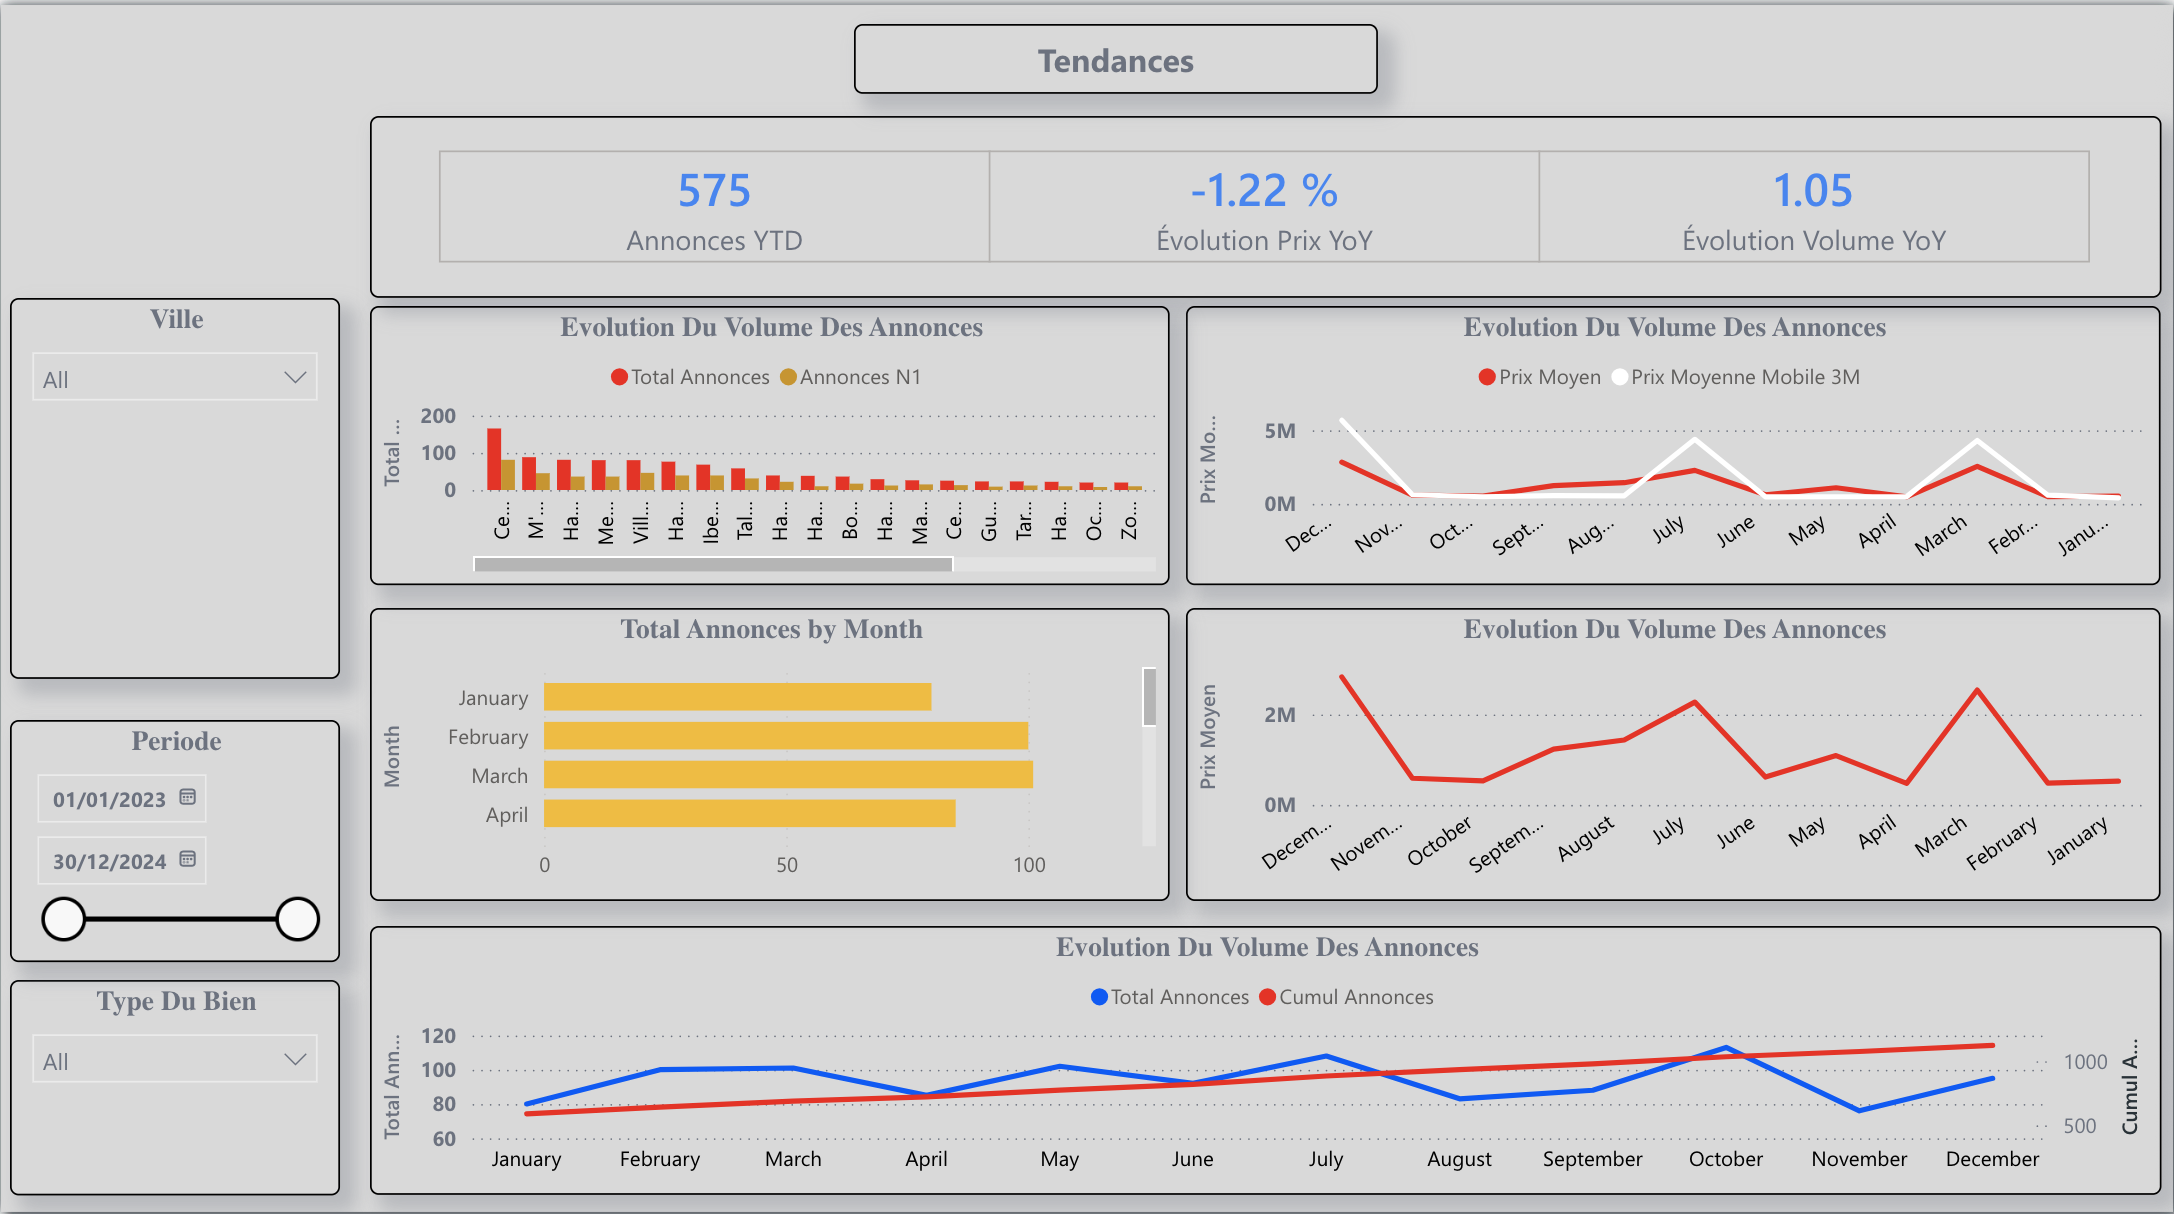

What the dashboard file says about the page in this screenshot:
{"tool":"powerbi","page":{"name":"Tendances","canvas":[1280,720],"ordinal":4},"visuals":[{"type":"shape","box":[0,0,1280,720],"z":0},{"type":"shape","box":[0,0,1280,720],"z":1000},{"type":"cardVisual","fields":{"Data":["Trends.Annonces YTD","Trends.Évolution Prix YoY","Trends.Évolution Volume YoY"]},"box":[223.6,74.5,1039.5,105.5],"z":2000},{"type":"textbox","box":[504.4,21,304,40.6],"z":3000},{"type":"slicer","title":"Ville","fields":{"Values":["gold subdim_ville.ville"]},"box":[15.5,180,191.3,220.8],"z":4000},{"type":"slicer","title":"Type Du Bien ","fields":{"Values":["gold subdim_type_bien.type_bien"]},"box":[15.5,575.3,191.3,125.2],"z":5000},{"type":"slicer","title":"Periode","fields":{"Values":["gold dim_date.date_publication"]},"box":[15.5,424.8,191.3,140.7],"z":6000},{"type":"lineChart","title":"Evolution Du Volume Des Annonces","fields":{"Category":["gold dim_date.date_publication.Variation.Date Hierarchy.Month"],"Y":["_measures_glob_page.Total Annonces"],"Y2":["_measures_glob_page.Cumul Annonces"]},"box":[223.6,544.4,1039.5,156.1],"z":7000},{"type":"clusteredBarChart","fields":{"Category":["gold dim_date.date_publication.Variation.Date Hierarchy.Month"],"Y":["_measures_glob_page.Total Annonces"]},"box":[223.6,360.1,464.2,170.2],"z":8000},{"type":"lineChart","title":"Evolution Du Volume Des Annonces","fields":{"Category":["gold dim_date.date_publication.Variation.Date Hierarchy.Month"],"Y":["_measures_glob_page.Prix Moyen"]},"box":[697.7,360.1,565.5,170.2],"z":9000},{"type":"lineChart","title":"Evolution Du Volume Des Annonces","fields":{"Category":["gold dim_date.date_publication.Variation.Date Hierarchy.Month"],"Y":["_measures_glob_page.Prix Moyen","Trends.Prix Moyenne Mobile 3M"]},"box":[697.7,184.3,565.5,161.8],"z":10000},{"type":"clusteredColumnChart","title":"Evolution Du Volume Des Annonces","fields":{"Category":["gold subdim_quartier.quartier"],"Y":["_measures_glob_page.Total Annonces","Trends.Annonces N1"]},"box":[223.6,184.3,464.2,161.8],"z":11000}]}

Visuals, with their boxes in screenshot pixels (x1, y1, x2, y2), scaled from the page's 1280x720 canvas onto the 2174x1214 screenshot:
shape: 0 0 2173 1213
shape: 0 0 2173 1213
cardVisual - Trends.Annonces YTD x Trends.Évolution Prix YoY: 380 126 2145 304
textbox: 857 35 1373 104
"Ville" slicer: 26 304 351 676
"Type Du Bien " slicer: 26 970 351 1181
"Periode" slicer: 26 716 351 953
"Evolution Du Volume Des Annonces" lineChart: 380 918 2145 1181
clusteredBarChart - gold dim_date.date_publication.Variation.Date Hierarchy.Month x _measures_glob_page.Total Annonces: 380 607 1168 894
"Evolution Du Volume Des Annonces" lineChart: 1185 607 2145 894
"Evolution Du Volume Des Annonces" lineChart: 1185 311 2145 584
"Evolution Du Volume Des Annonces" clusteredColumnChart: 380 311 1168 584
